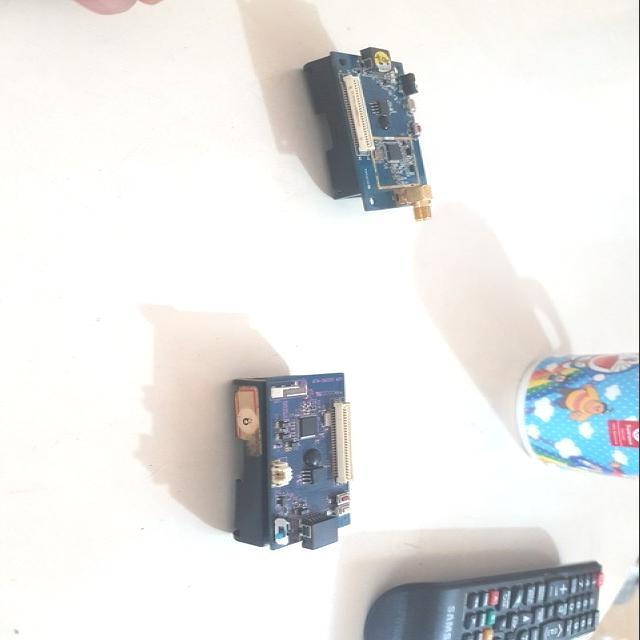TelosB: (305, 48, 434, 223), (234, 373, 354, 546)
